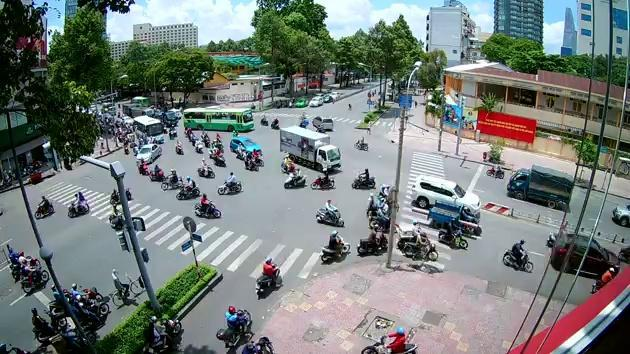xe buyt: (182, 107, 254, 131), (132, 115, 165, 143)
xe dap: (109, 268, 144, 307)
xe hoi: (411, 174, 480, 214), (228, 135, 261, 156), (134, 143, 162, 163), (312, 113, 333, 130)
xe may: (359, 326, 418, 353), (143, 314, 182, 354), (216, 303, 252, 344), (28, 307, 67, 341), (501, 236, 532, 273), (254, 255, 280, 298), (19, 258, 50, 293), (436, 217, 468, 249), (319, 230, 350, 263), (355, 224, 386, 257), (402, 230, 436, 260), (315, 198, 345, 227), (192, 192, 221, 218), (174, 174, 199, 200), (158, 166, 183, 191), (216, 170, 242, 194), (67, 191, 89, 219), (349, 167, 374, 190), (310, 167, 335, 190), (282, 167, 305, 190), (108, 203, 126, 229), (33, 194, 52, 218), (146, 162, 164, 183), (242, 150, 258, 170), (197, 158, 213, 177), (486, 163, 504, 179), (136, 155, 150, 175), (352, 134, 368, 150), (212, 147, 225, 166), (174, 137, 183, 154), (193, 137, 202, 152), (269, 116, 279, 129), (260, 113, 268, 125)
xe tai: (279, 123, 342, 173), (550, 233, 618, 279), (505, 162, 571, 209)
